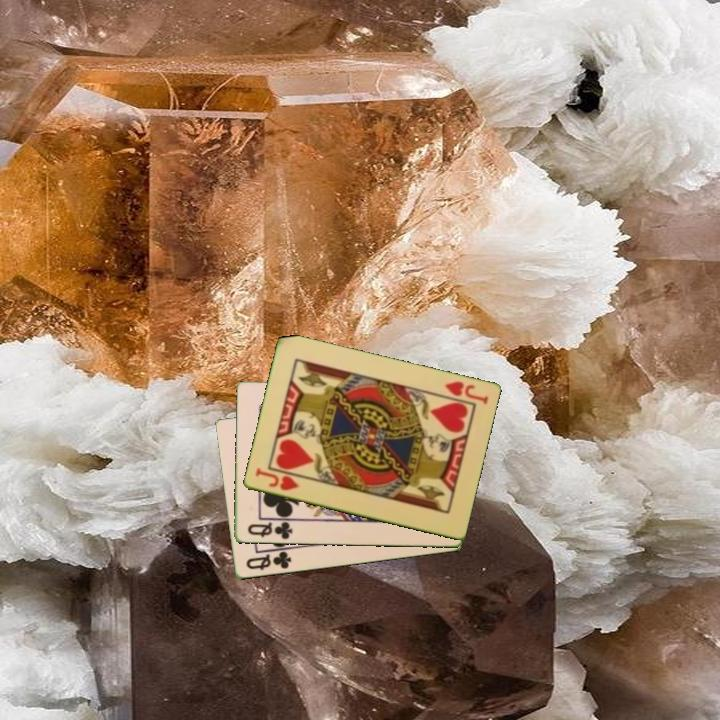Jh: (251, 465, 302, 494), (441, 378, 491, 407)
Qc: (242, 548, 294, 573), (244, 518, 295, 543)
